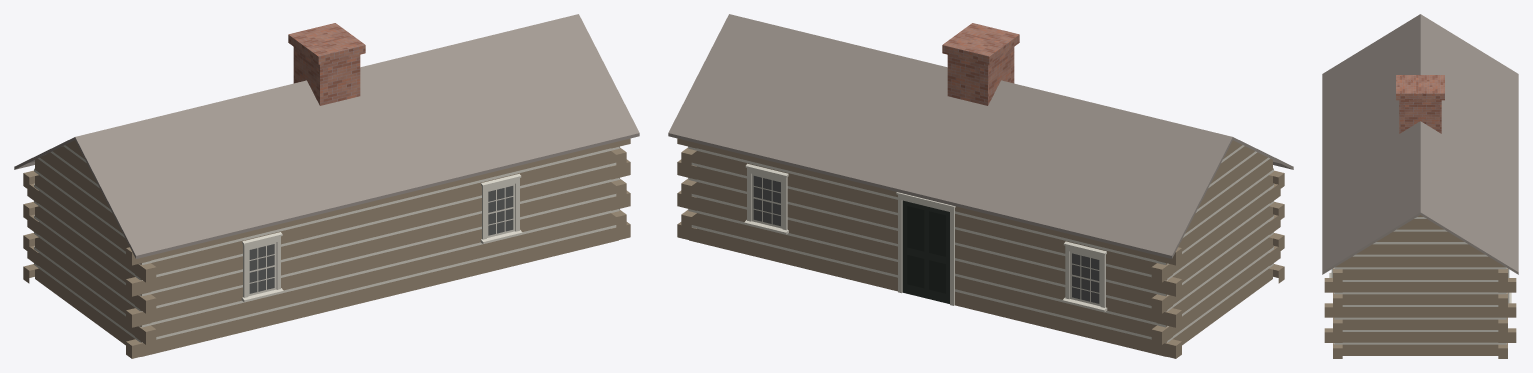
Rendered from fort_dearborn_guard_house__log_1816.glb.
3 renders of one model, left to right at view 1: azimuth 30°, elevation 25°; view 2: azimuth 150°, elevation 25°; view 3: azimuth 270°, elevation 25°, orthographic. The views are drawn at different scales.
Visible parts, largest first — view 1: fort_dearborn_guard_house__log_1816; view 2: fort_dearborn_guard_house__log_1816; view 3: fort_dearborn_guard_house__log_1816.
Part boxes in pixels (<box>): fort_dearborn_guard_house__log_1816: <box>14,14,639,358</box>; fort_dearborn_guard_house__log_1816: <box>668,14,1293,358</box>; fort_dearborn_guard_house__log_1816: <box>1322,14,1518,358</box>.
Size of the model in its own units: 11.51 by 4.8 by 4.82.
Materials: 7 (1 with a texture image).
